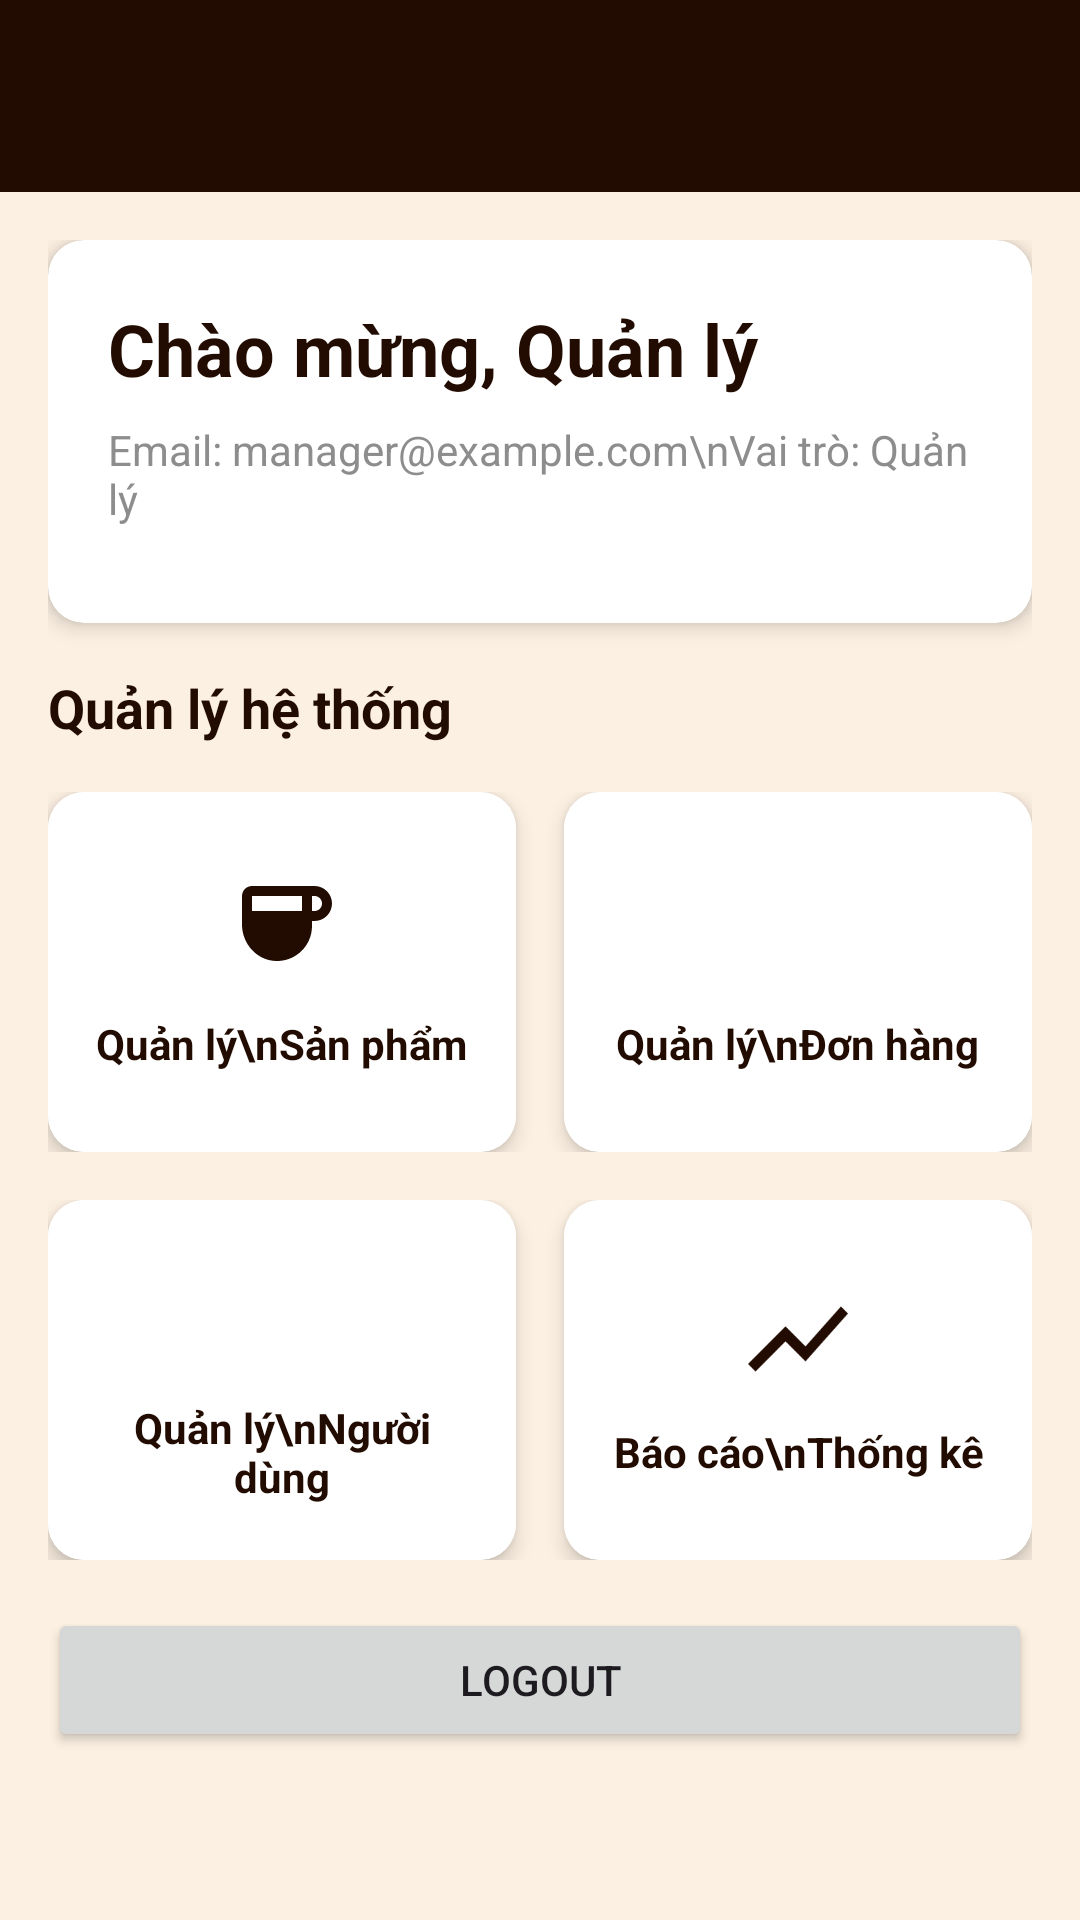

Screen size 1080*1920. Icon name, then its box in pixels as BBox(x1, y1, x2, y2):
chart: BBox(748, 1306, 848, 1372)
coffee: BBox(242, 886, 332, 961)
